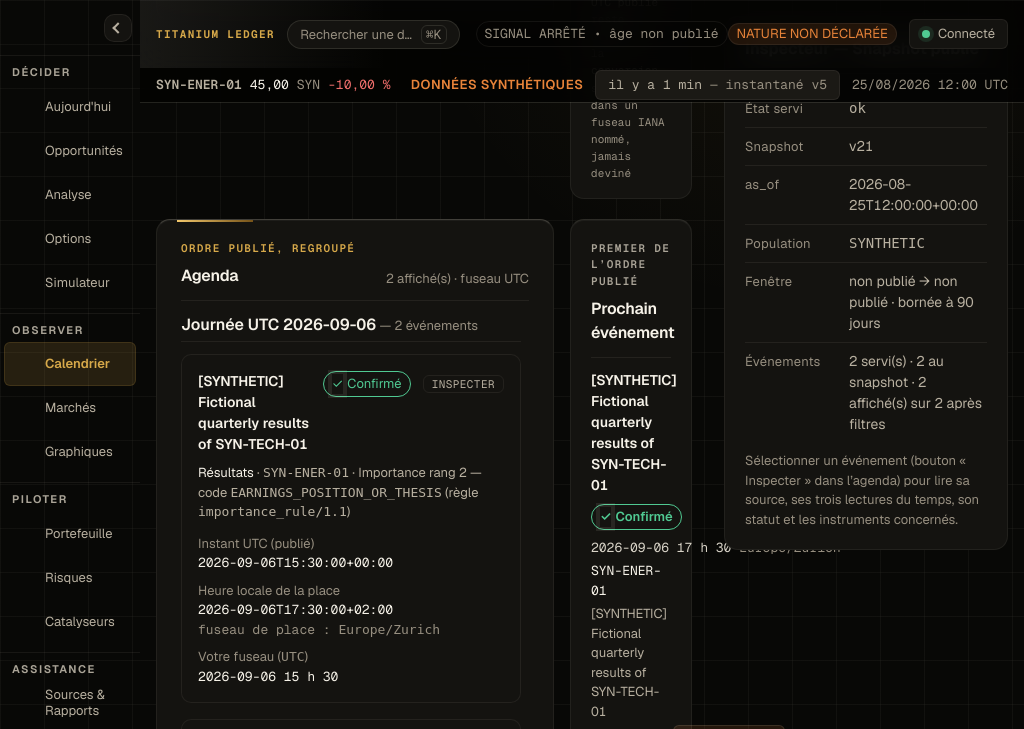
Scenario: Page Calendrier — composition (LOT-A7) › l’inspecteur porte le snapshot publié ; « Inspecter » ouvre l’événement ; « Fermer » y revient
(page scrolled)
Expected: the element with test id "cal-snapshot-facts" is shown, x1=745 y1=90 x2=987 y2=443
Expected: the heading "Inspecteur — Snapshot publié" is shown, x1=745 y1=37 x2=987 y2=74
Click the 1st button "Inspecter".
click(463, 384)  # box x1=423 y1=375 x2=504 y2=393
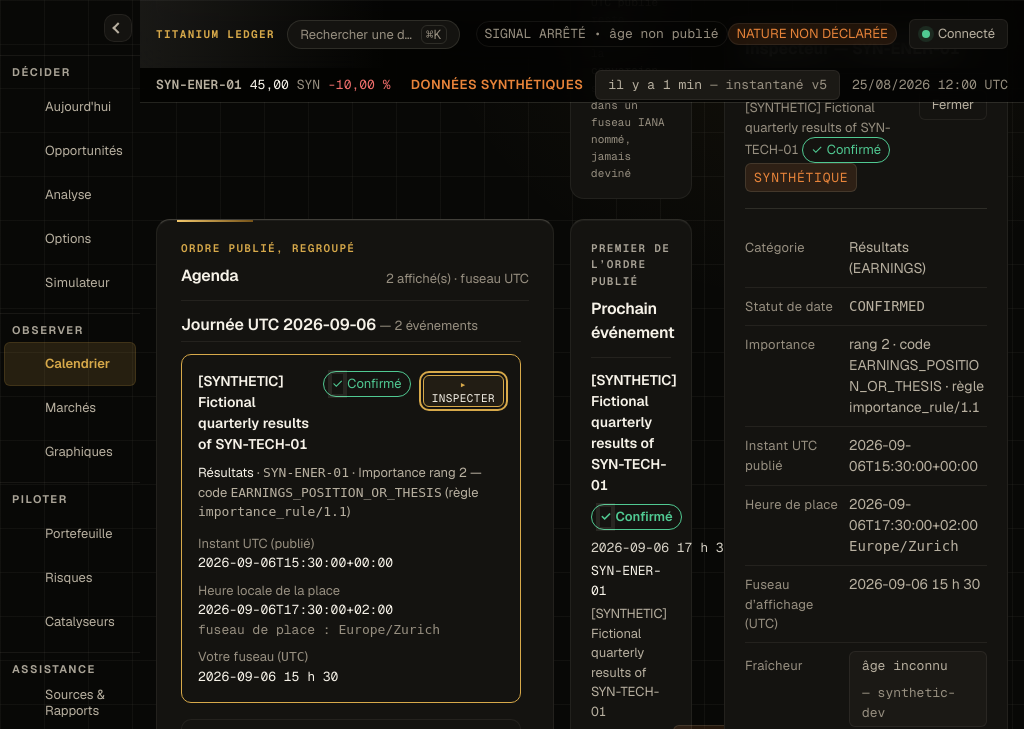
Expected: the element with test id "cal-snapshot-facts" is gone
Click the button "Fermer".
click(953, 105)  # box x1=919 y1=90 x2=987 y2=120
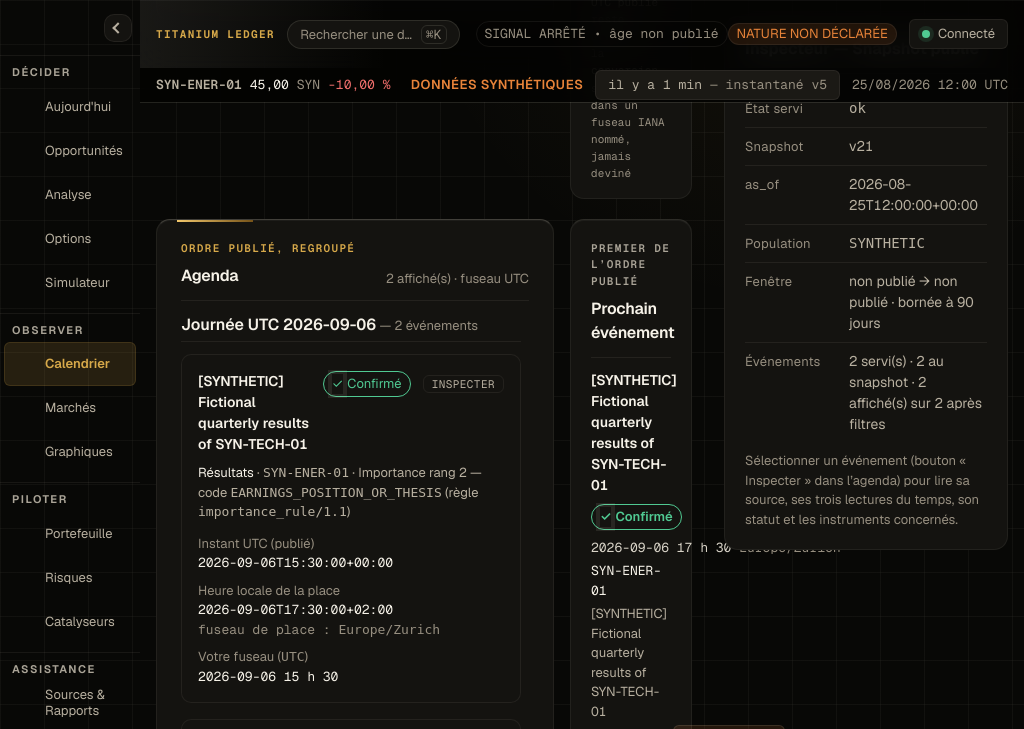
Expected: the element with test id "cal-snapshot-facts" is shown, x1=745 y1=90 x2=987 y2=443
